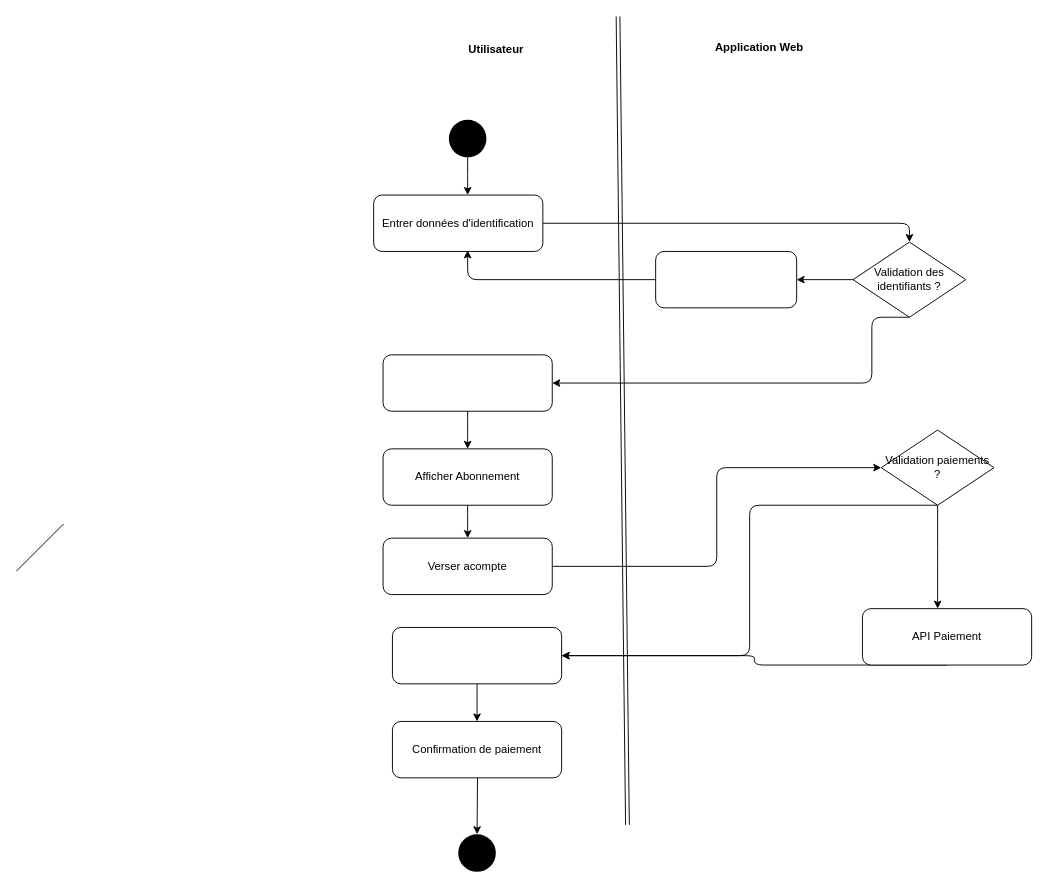
The diagram is 1048 pixels wide and 888 high, and some of its shapes have lost their labels. The shapes that lost their labels are listed below. From the top down, each one's centre as x and y in pixels, then its label:
At pixel 726 279: "Renvoyer l'erreur".
At pixel 467 382: "Page d'accueil".
At pixel 477 655: "Page paiement annuler".
